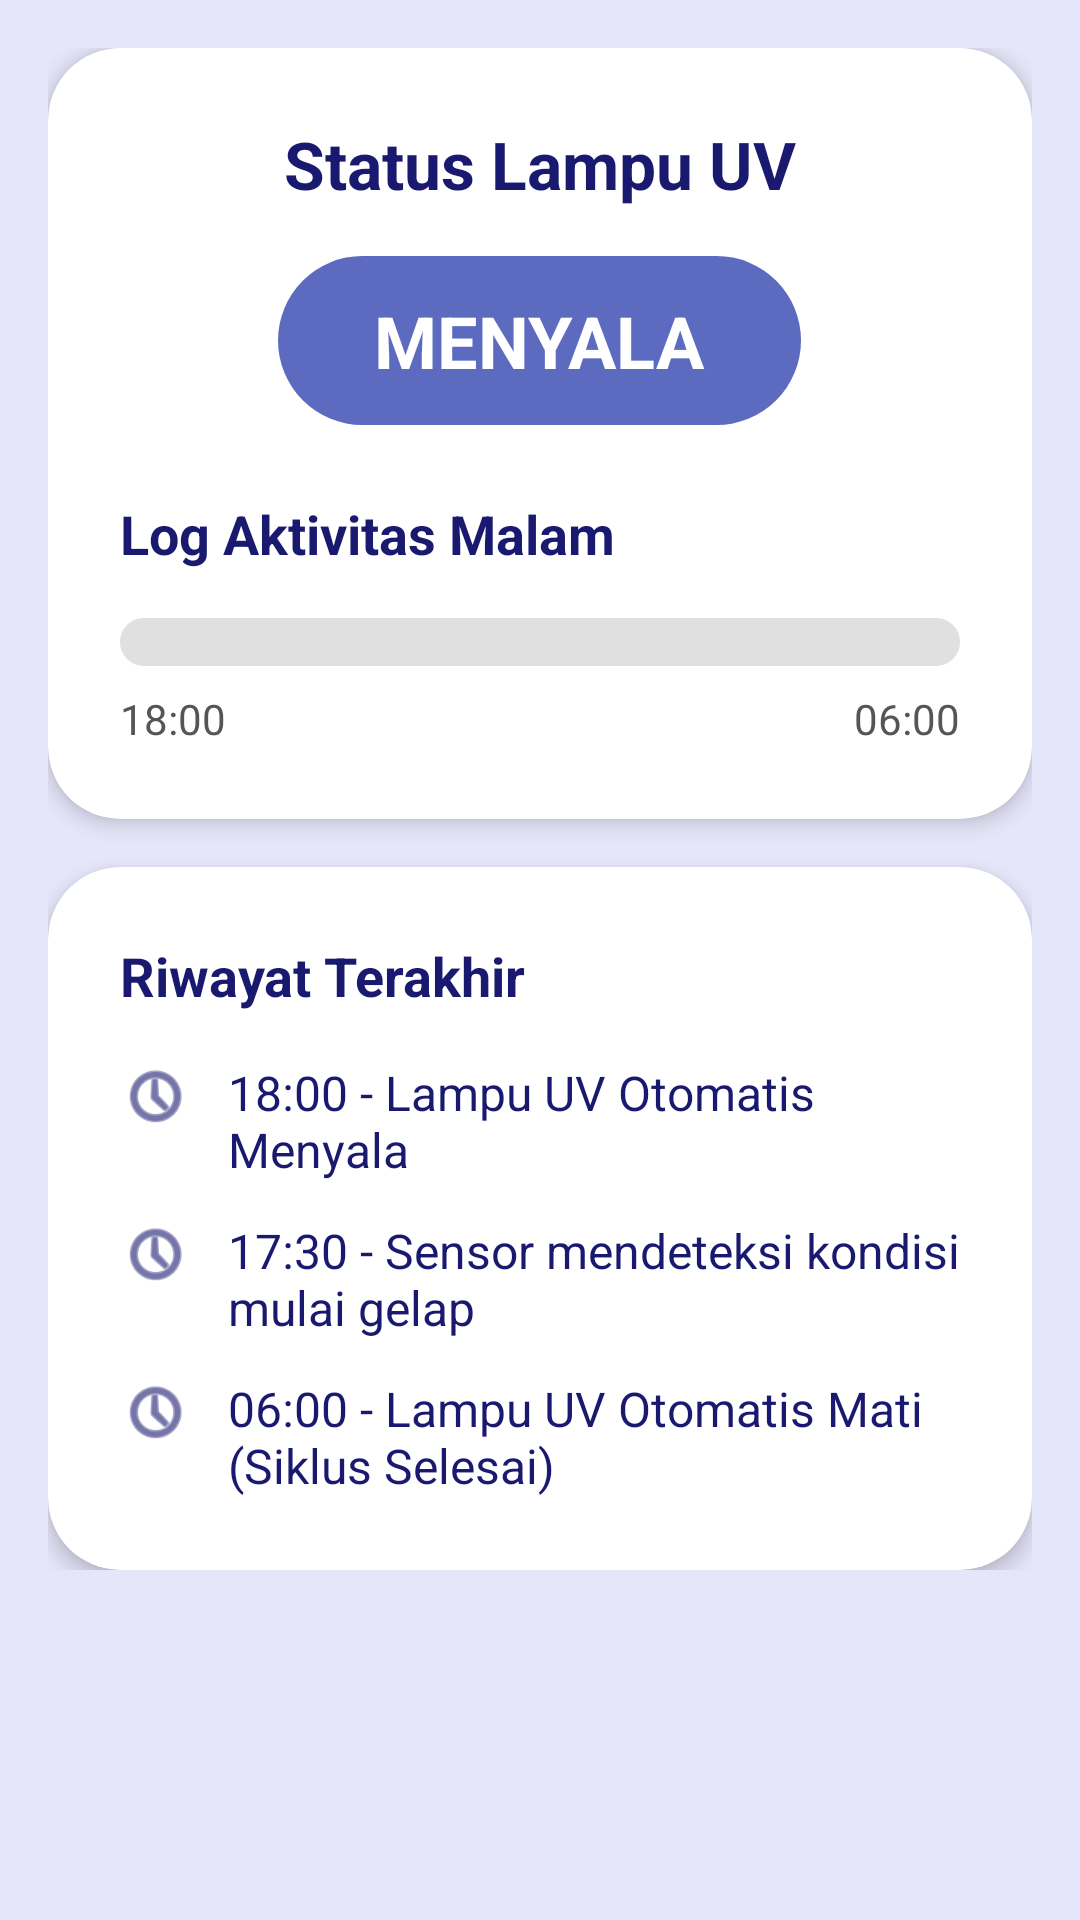

Screen size 1080w x 1920h. Icon name, then its center in pixels as [x,y]:
recent history: [156,1096], [156,1254], [156,1412]
